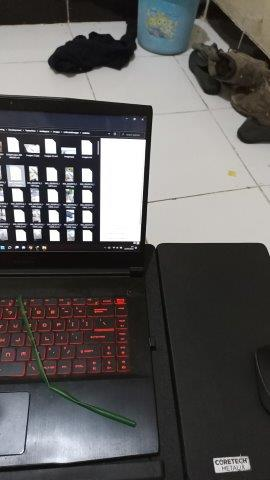sedotan: (18, 298, 135, 425)
